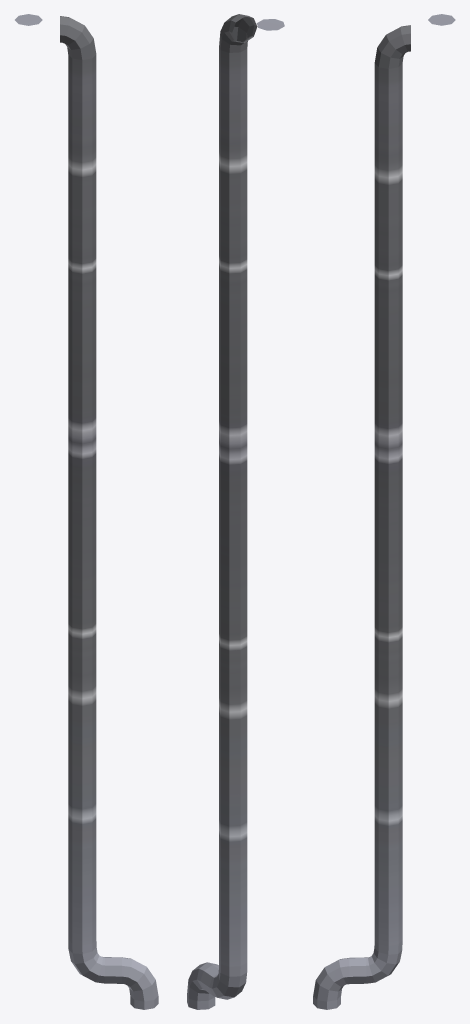
Rendered from Pipe.fbx.
3 views of the same model, side by side, from view 1: azimuth 90°, elevation 25°; view 2: azimuth 210°, elevation 25°; view 3: azimuth 270°, elevation 25° (orthographic). The views are drawn at different scales.
Visible parts, largest first — view 1: Cylinder; view 2: Cylinder; view 3: Cylinder.
Boxes of the visible parts, box(x1,y1,x2,y2) form: Cylinder: box(15, 14, 158, 1009); Cylinder: box(187, 14, 284, 1009); Cylinder: box(313, 14, 455, 1009).
Size of the model in its own units: 35.9 by 997 by 132.
Materials: 1 (1 with a texture image).
